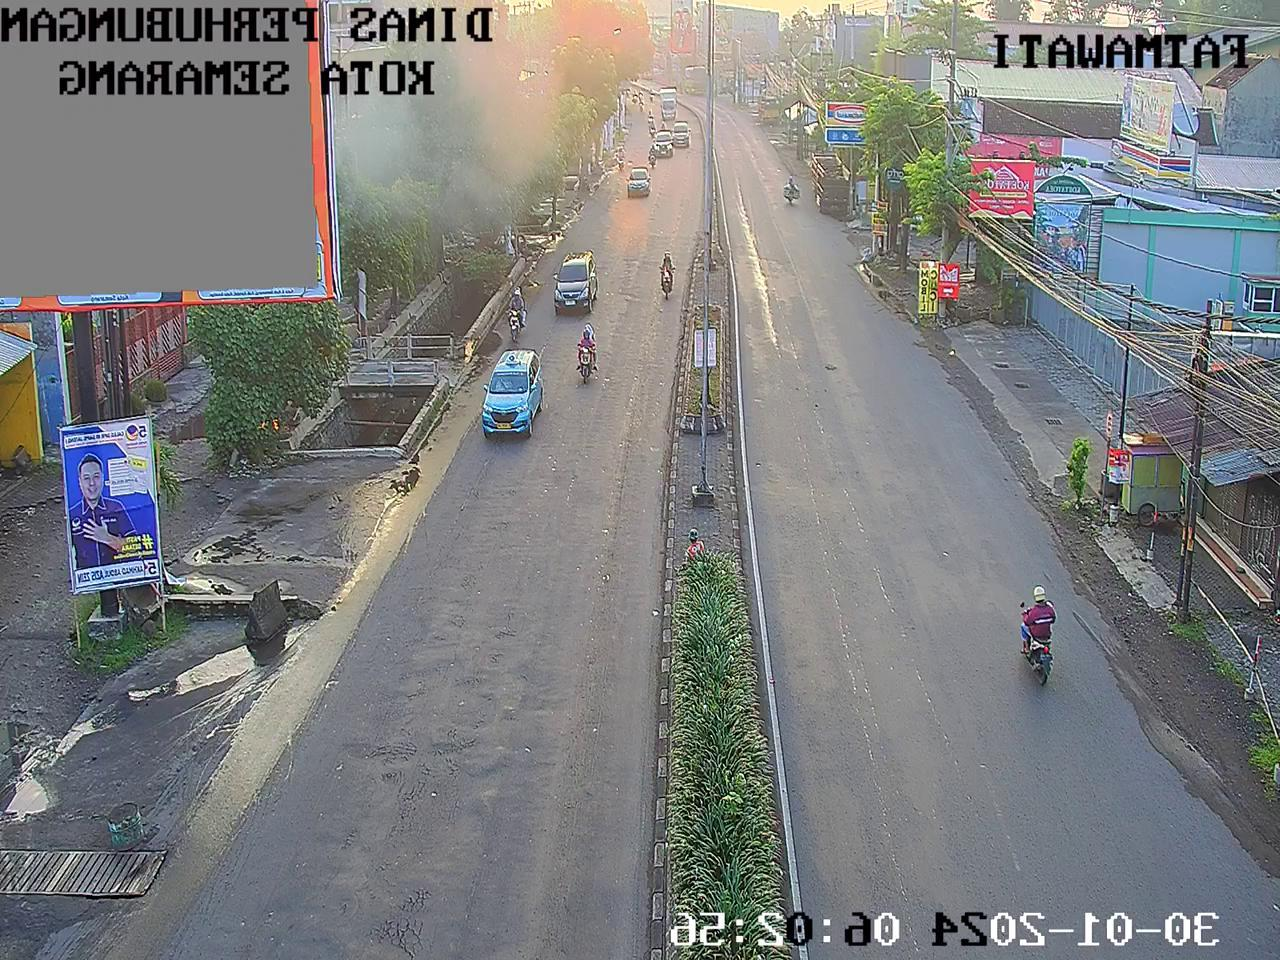car: (480, 344, 546, 442), (550, 244, 596, 317), (623, 161, 652, 202), (670, 118, 692, 153), (651, 126, 671, 157)
motorcycle: (569, 317, 603, 384), (651, 242, 680, 303), (503, 277, 523, 335), (645, 145, 657, 172), (617, 145, 625, 172), (645, 109, 654, 132), (647, 122, 657, 139), (657, 118, 666, 132), (649, 89, 658, 103), (638, 97, 646, 112), (632, 90, 639, 106), (638, 85, 643, 102), (621, 84, 625, 98), (626, 86, 630, 97)
truck: (656, 85, 678, 126)
